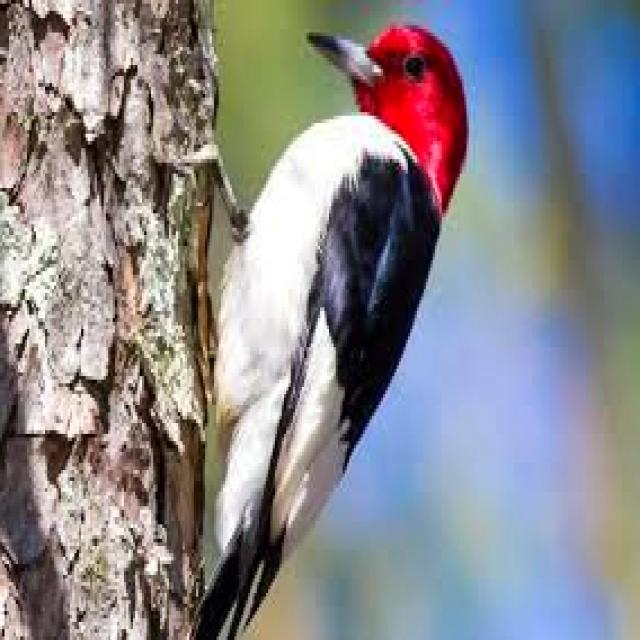woodpecker: (162, 25, 469, 636)
